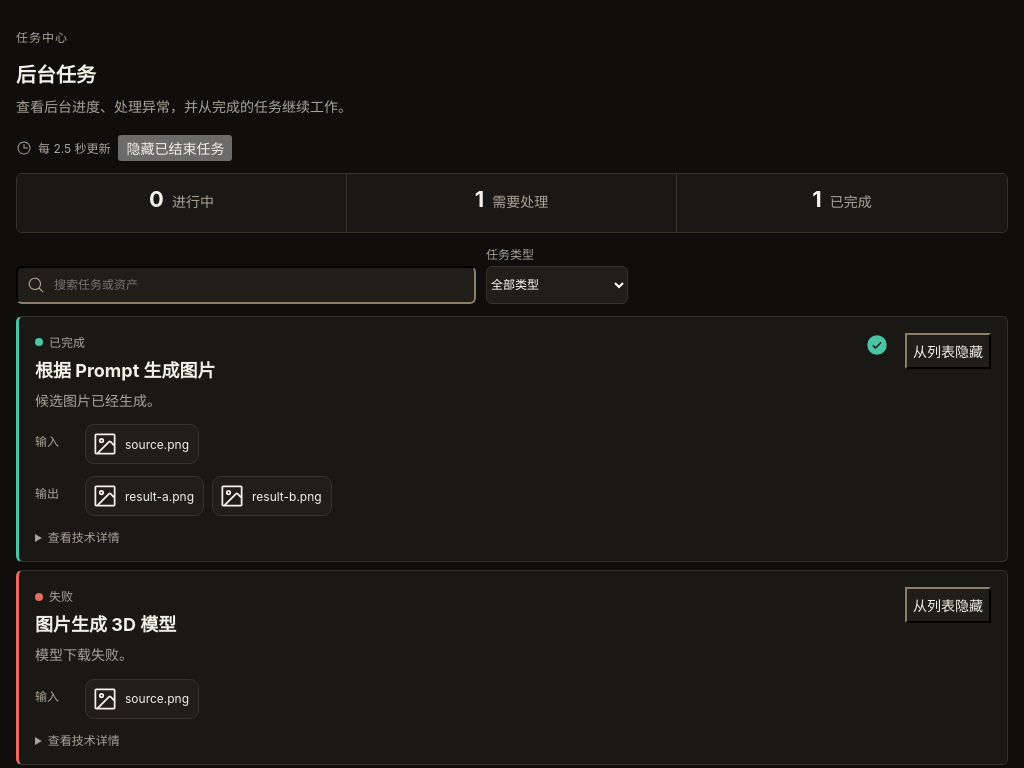
Test: JobsPanel › filters attention tasks and searches by asset name
Click the button "1 需要处理" at (512, 203), box [347,174,677,232]
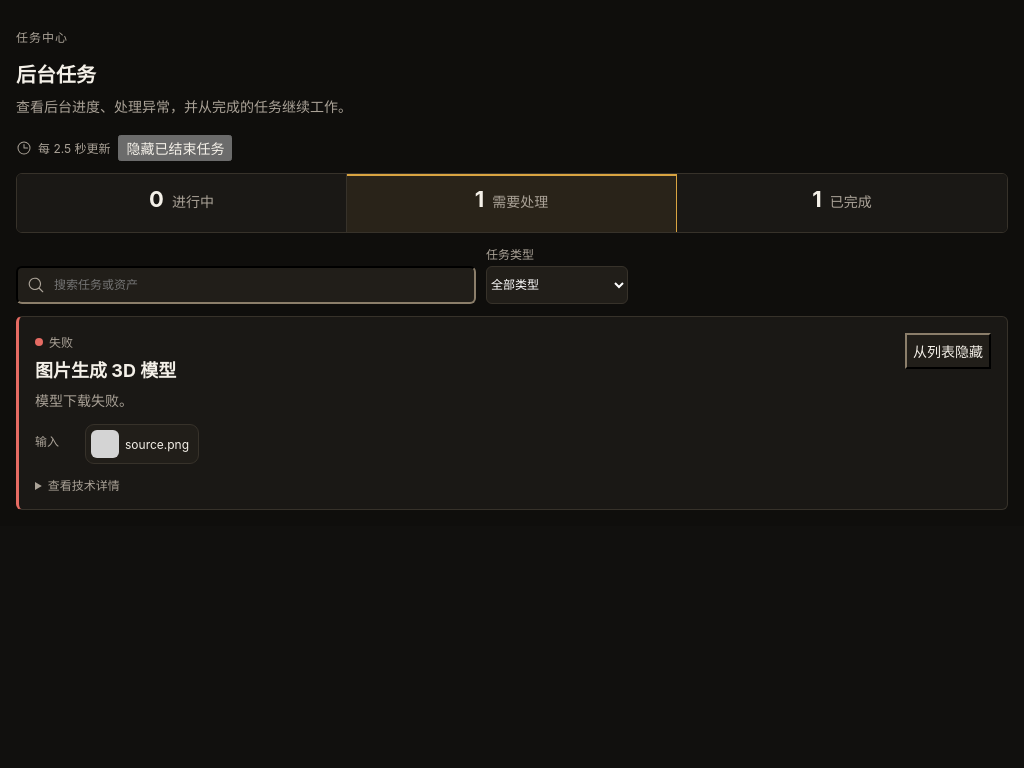
Expected: the text "模型下载失败。" is shown, [35,392,133,409]
Result: the text "候选图片已经生成。" is gone
Click the button "1 需要处理" at (512, 203), box [347,174,677,232]
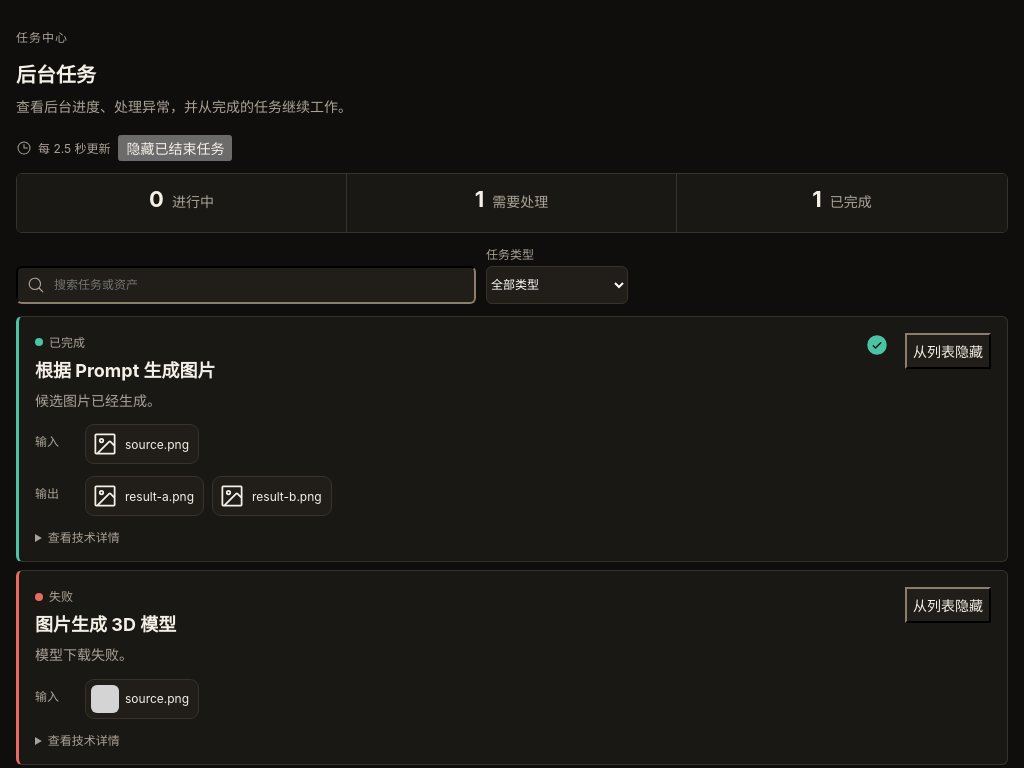
Type "result-a" into the search field with placeholder "搜索任务或资产" at (246, 285), box [16,266,476,304]
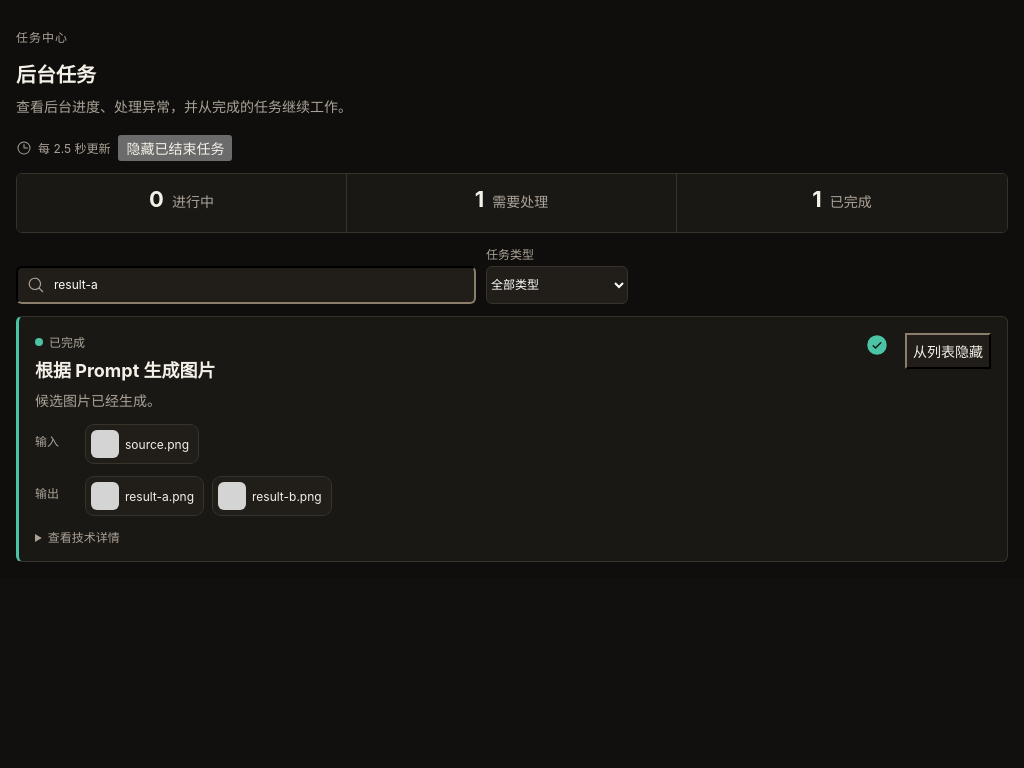
Result: the text "候选图片已经生成。" is shown at [35,392,161,409]
Result: the text "模型下载失败。" is gone
